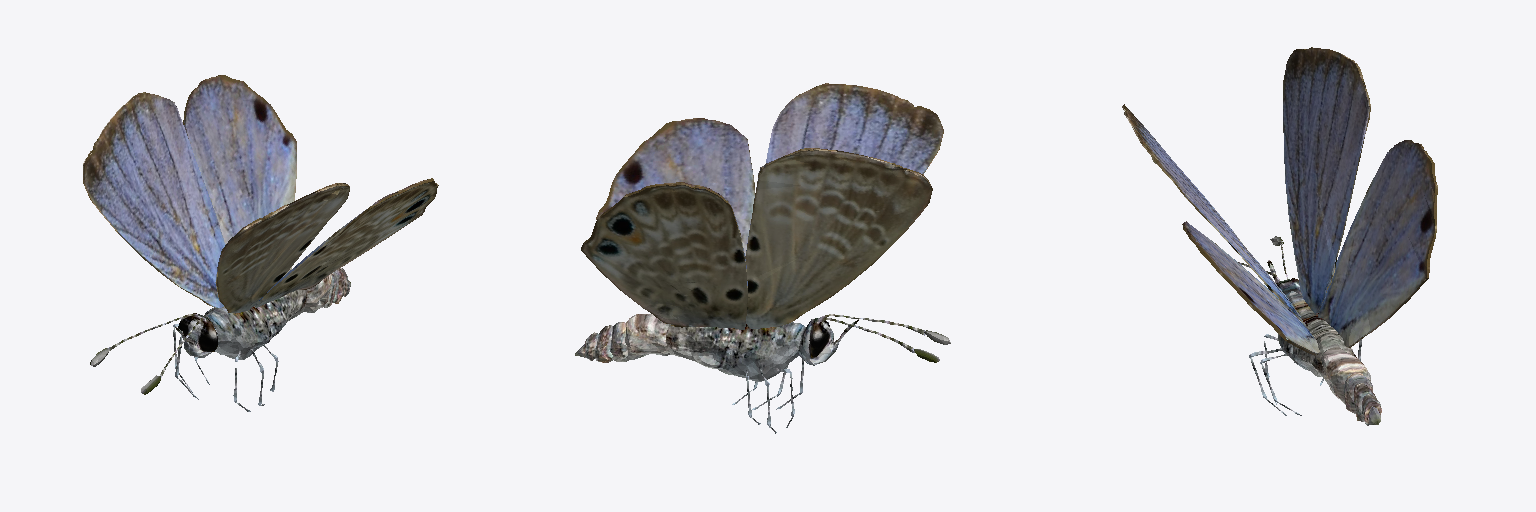
3 renders of one model, left to right at view 1: azimuth 30°, elevation 25°; view 2: azimuth 150°, elevation 25°; view 3: azimuth 270°, elevation 25°, orthographic.
Parts seen in each view (by area): view 1: node; view 2: node; view 3: node.
Boxes of the visible parts, box(x1,y1,x2,y2) form: node: box(83, 75, 438, 411); node: box(575, 83, 950, 433); node: box(1122, 47, 1437, 425).
Size of the model in its own units: 1431 by 1252 by 1161.
Materials: 1 (1 with a texture image).